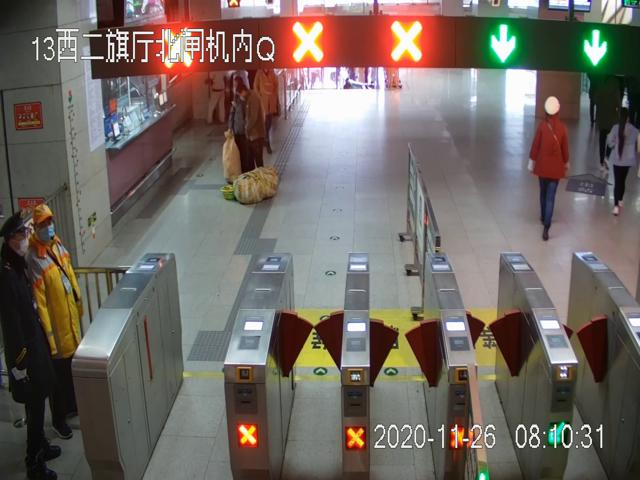person: (26, 205, 84, 439), (525, 95, 571, 241), (237, 87, 267, 167)
